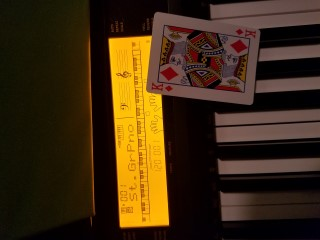KingOfDiamonds: (145, 11, 260, 106)
